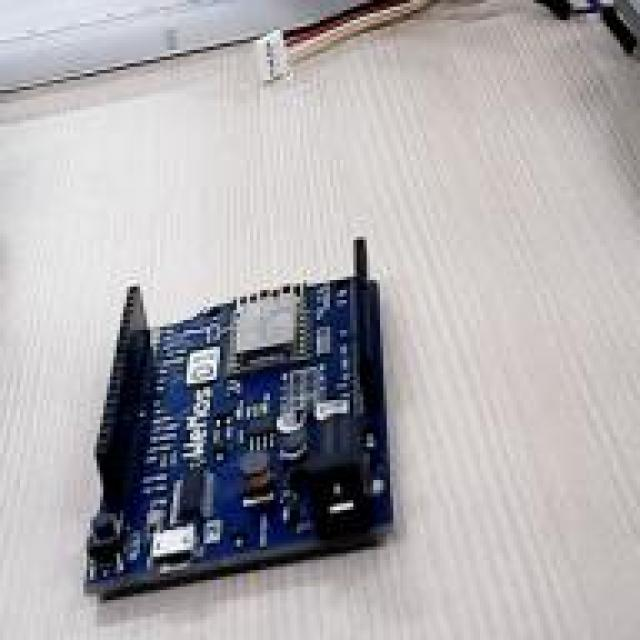Wemos: (88, 238, 391, 594)
